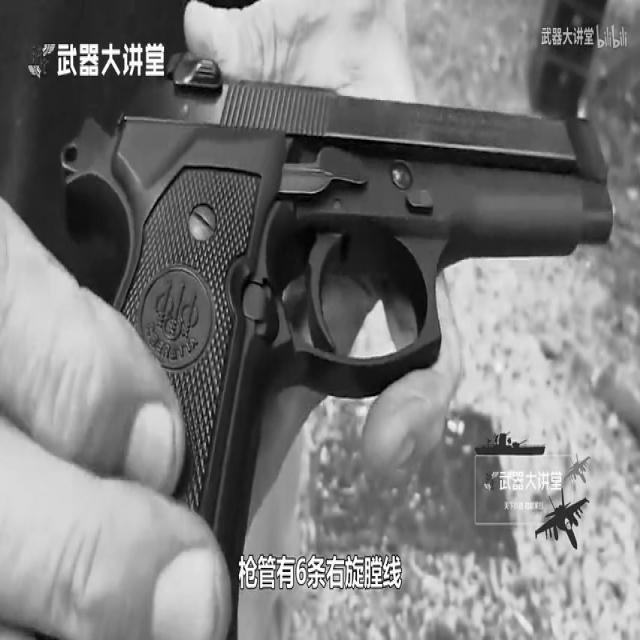Hand-Gun: (38, 0, 634, 640)
